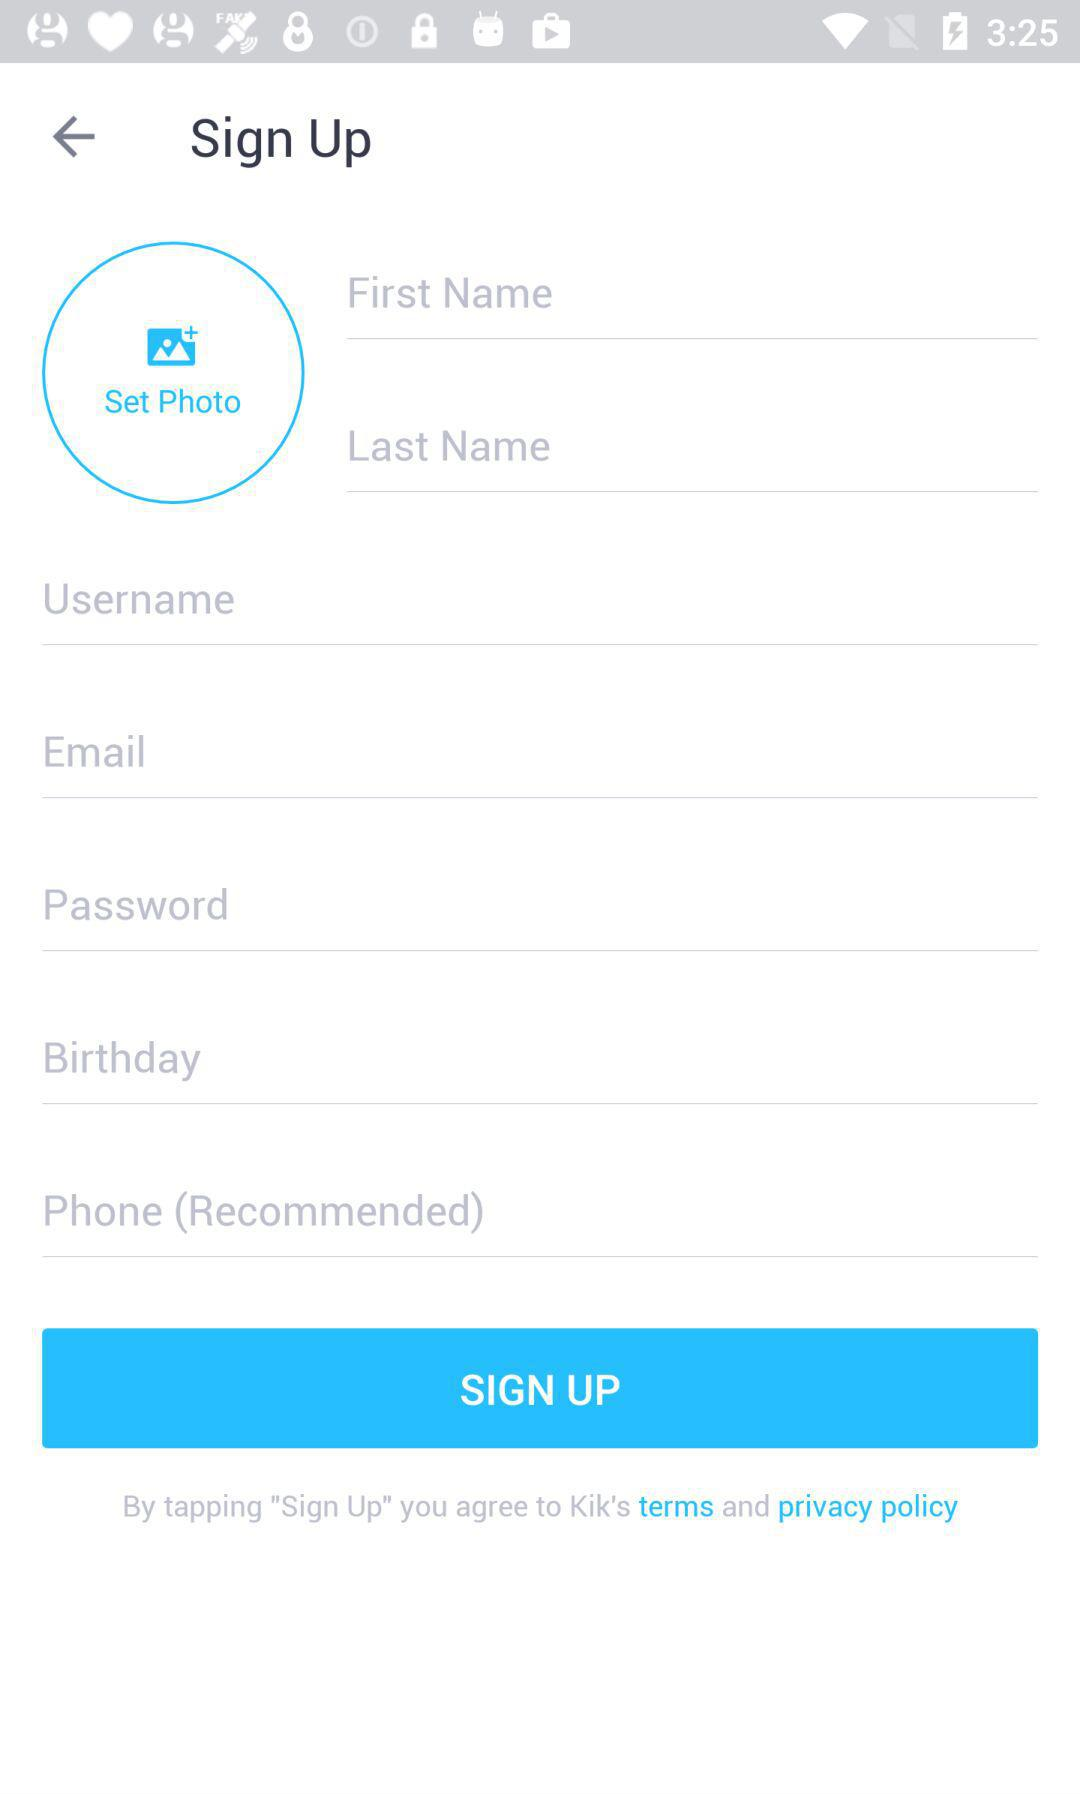EditText: (44, 1190, 1039, 1258), (42, 887, 1039, 952), (44, 734, 1039, 800), (44, 1041, 1038, 1105), (42, 583, 1039, 646), (347, 276, 1039, 341), (346, 431, 1040, 495)
Icon: (53, 117, 96, 159)
Image: (42, 241, 306, 506)
Text: (124, 1493, 960, 1525), (45, 1190, 484, 1235), (192, 117, 372, 169), (348, 277, 552, 311), (46, 887, 229, 923), (350, 431, 552, 463), (46, 1041, 202, 1082), (44, 583, 234, 615), (45, 734, 146, 769)
TextButton: (44, 1328, 1038, 1449)
UpperTaskBar: (1, 1, 1080, 64)
